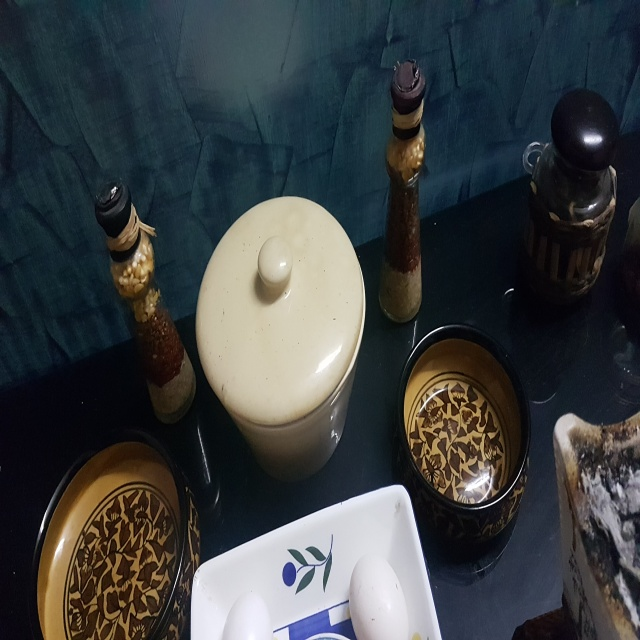eggs: (344, 552, 411, 638), (217, 590, 276, 640)
